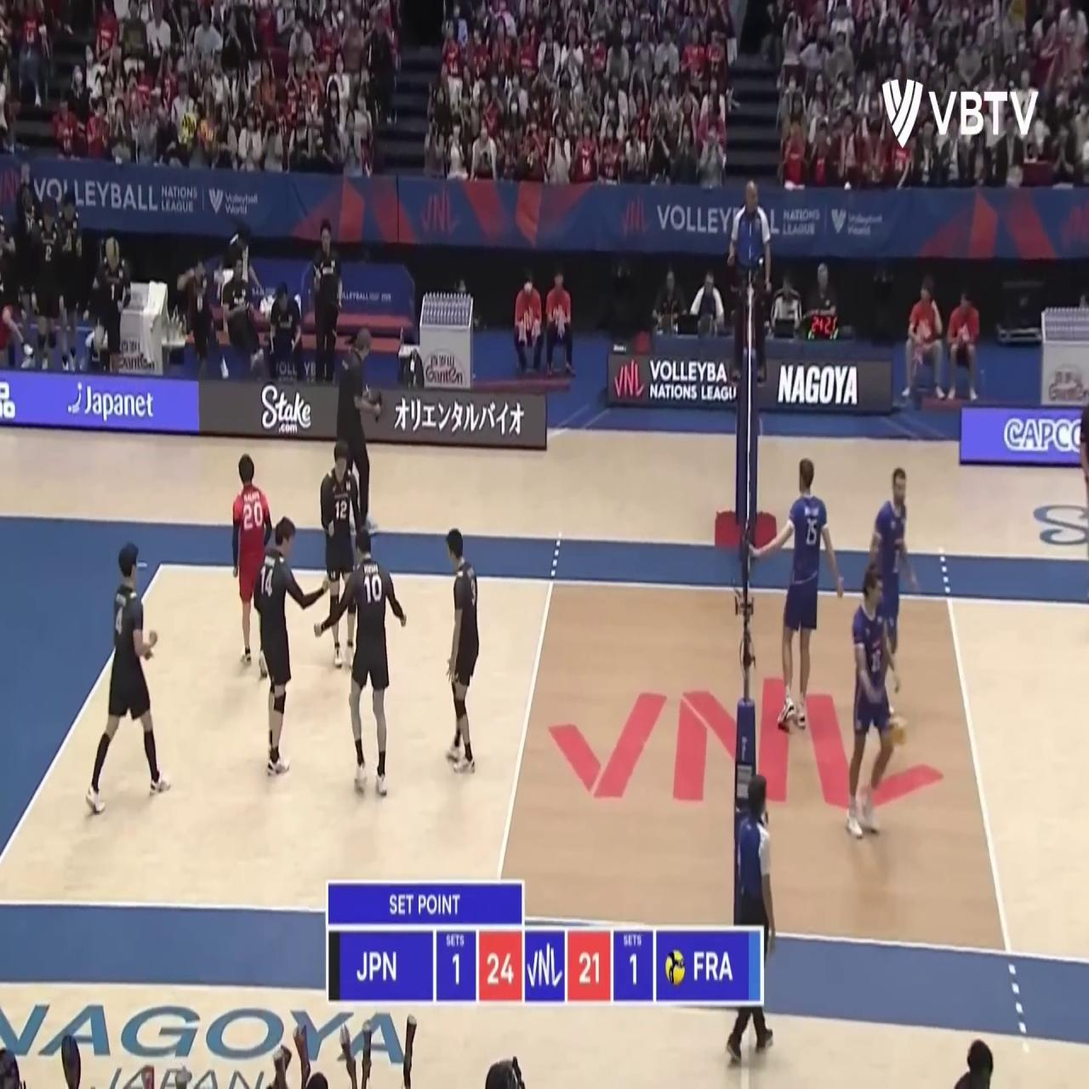ball: (889, 714, 908, 748)
